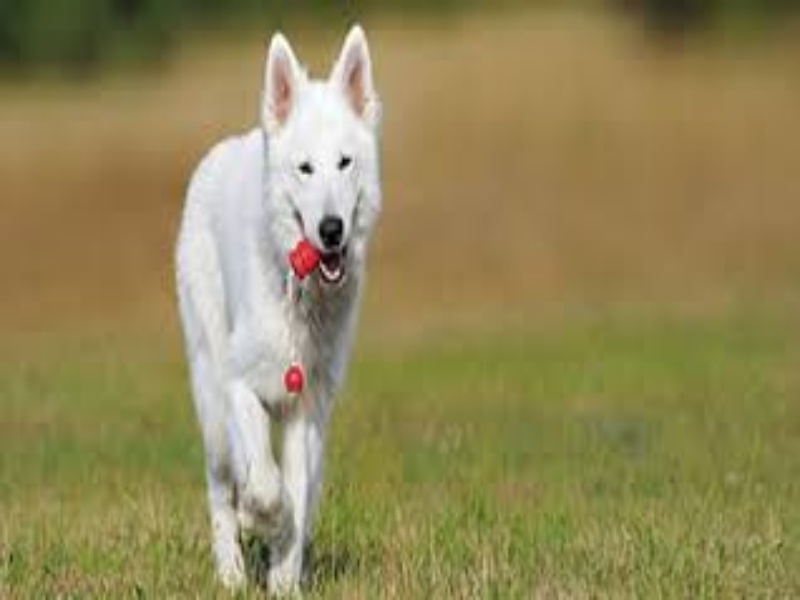dog: (158, 28, 400, 599)
